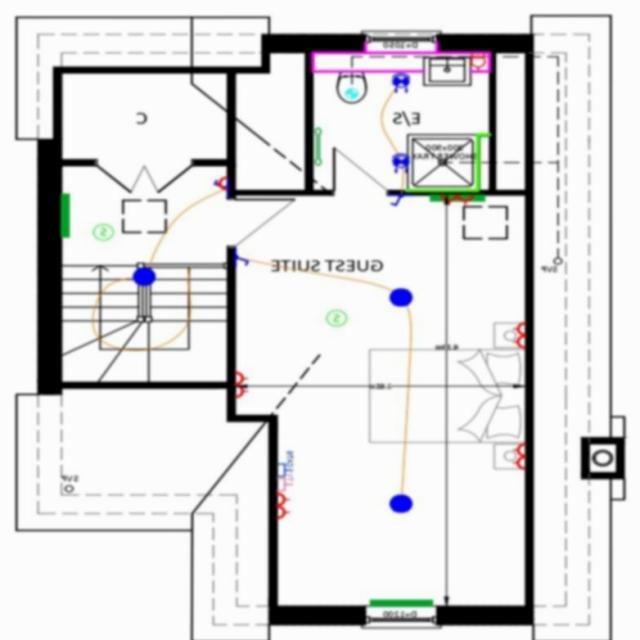Cat 6 Data Socket: (277, 448, 298, 476)
Ceiling Mounted Continuous Extract FanWith Boost Mode Activated By Light Switch: (346, 87, 360, 97)
Double Socket: (440, 193, 476, 207), (278, 489, 292, 522), (513, 441, 527, 471), (237, 369, 250, 399), (514, 320, 527, 349)
Full Height Tiling: (408, 132, 490, 190)
Light Switch: (237, 251, 250, 268), (390, 194, 406, 207), (214, 178, 228, 188)
Low Energy Downlighter: (394, 72, 412, 94), (394, 153, 410, 173)
Low Energy Pendant Light: (134, 265, 158, 285), (391, 287, 414, 306), (391, 494, 414, 513)
Mains Wired Smoke Detector: (327, 308, 349, 326), (94, 223, 115, 240)
Radiator: (370, 598, 434, 606), (62, 192, 72, 238), (431, 194, 486, 201)
Shaver Socket: (471, 52, 488, 71)
Single Socket: (213, 174, 230, 192)
TV - Satellite Multisocket: (278, 473, 296, 490)
